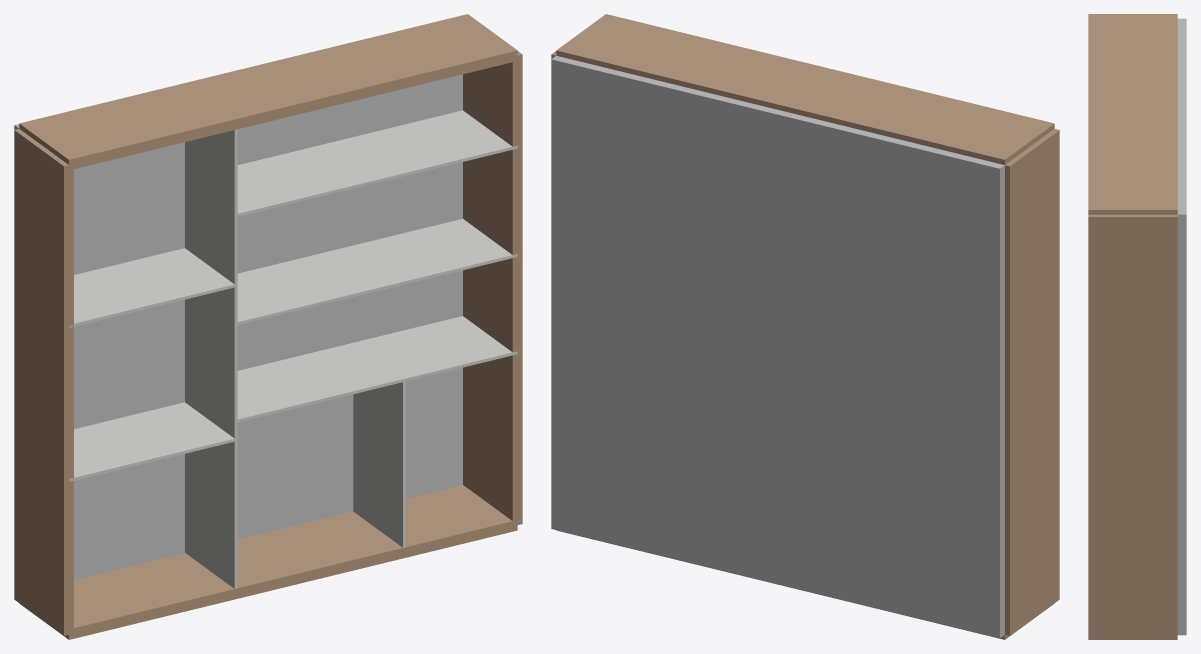
The picture shows the model from 3 angles, left to right: view 1: azimuth 30°, elevation 25°; view 2: azimuth 150°, elevation 25°; view 3: azimuth 270°, elevation 25°; orthographic projection. The views are drawn at different scales.
Visible parts, largest first — view 1: floor_slab, wall_3, wall_2, wall_0, wall_1, wall_4, wall_6, wall_14, wall_8, wall_10, wall_12, wall_13 (+4 smaller); view 2: floor_slab, wall_3, wall_2; view 3: wall_1, wall_2, floor_slab, wall_0.
Part boxes in pixels (x1=…): floor_slab: x1=14, y1=74, x2=462, y2=579; wall_3: x1=14, y1=129, x2=73, y2=635; wall_2: x1=19, y1=14, x2=517, y2=170; wall_0: x1=19, y1=485, x2=517, y2=639; wall_1: x1=463, y1=51, x2=522, y2=524; wall_4: x1=236, y1=110, x2=517, y2=217; wall_6: x1=236, y1=218, x2=517, y2=325; wall_14: x1=236, y1=316, x2=516, y2=422; wall_8: x1=353, y1=381, x2=405, y2=547; wall_10: x1=69, y1=402, x2=235, y2=481; wall_12: x1=69, y1=248, x2=235, y2=327; wall_13: x1=185, y1=287, x2=237, y2=439; floor_slab: x1=551, y1=55, x2=1004, y2=638; wall_3: x1=1005, y1=129, x2=1059, y2=635; wall_2: x1=556, y1=14, x2=1054, y2=164; wall_1: x1=1088, y1=214, x2=1177, y2=637; wall_2: x1=1088, y1=14, x2=1177, y2=214; floor_slab: x1=1177, y1=18, x2=1186, y2=635; wall_0: x1=1088, y1=637, x2=1177, y2=639.
Bounding box in the file's own units: 15.95 × 15.95 × 3.3.
